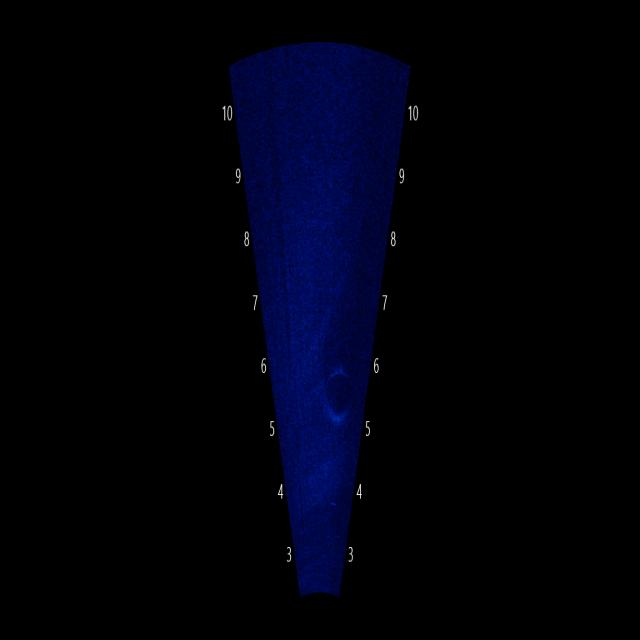circle: (311, 354, 366, 434)
